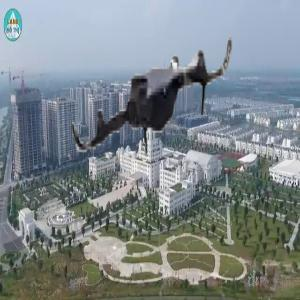drone: (67, 15, 243, 191)
